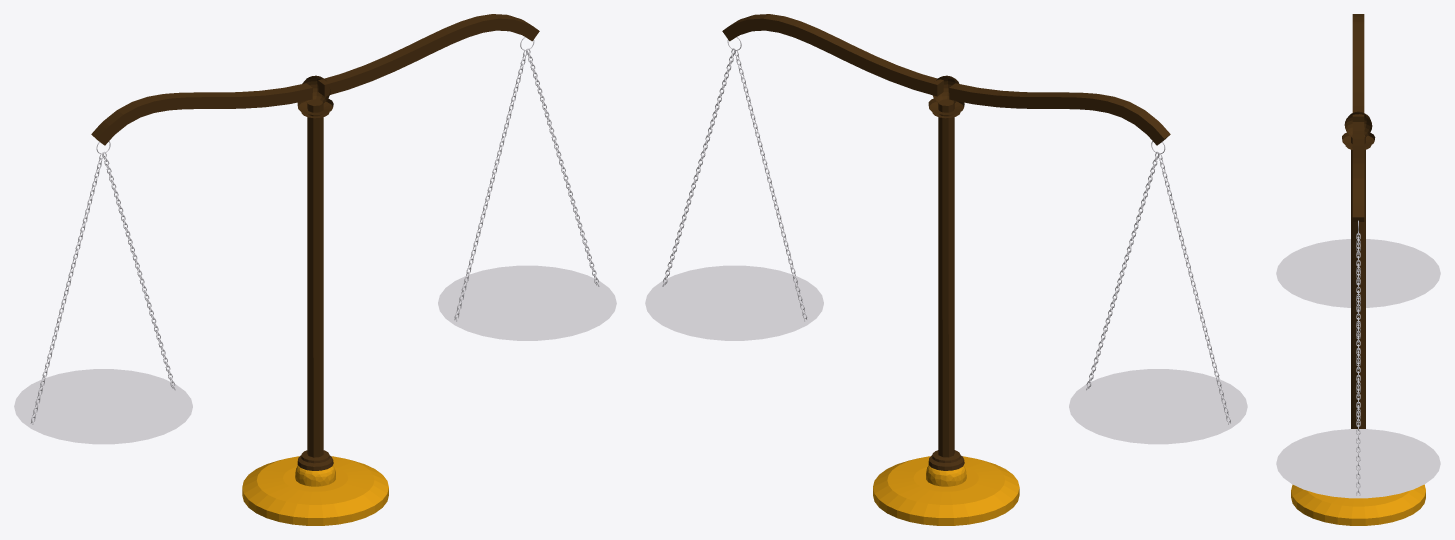
File: scale.fbx
The picture shows the model from 3 angles, left to right: view 1: azimuth 30°, elevation 25°; view 2: azimuth 150°, elevation 25°; view 3: azimuth 270°, elevation 25°; orthographic projection. The views are drawn at different scales.
Visible parts, largest first — view 1: ScalePlate L.001, ScalePlate L, Scale Hands, Base, Pole; view 2: ScalePlate L.001, ScalePlate L, Scale Hands, Base, Pole; view 3: ScalePlate L, ScalePlate L.001, Base, Pole, Scale Hands.
Boxes of the visible parts, x1,y1,x2,y2 form: ScalePlate L.001: (14, 141, 192, 444); ScalePlate L: (438, 37, 616, 340); Scale Hands: (91, 14, 539, 145); Base: (242, 456, 388, 525); Pole: (297, 98, 333, 470); ScalePlate L.001: (1069, 141, 1247, 444); ScalePlate L: (645, 37, 823, 340); Scale Hands: (722, 14, 1170, 145); Base: (873, 456, 1019, 525); Pole: (928, 98, 964, 470); ScalePlate L: (1276, 220, 1440, 498); ScalePlate L.001: (1276, 239, 1440, 307); Base: (1291, 484, 1425, 525); Pole: (1342, 132, 1375, 428); Scale Hands: (1344, 14, 1372, 221).
Bounding box in the file's own units: 515 × 372 × 138.
